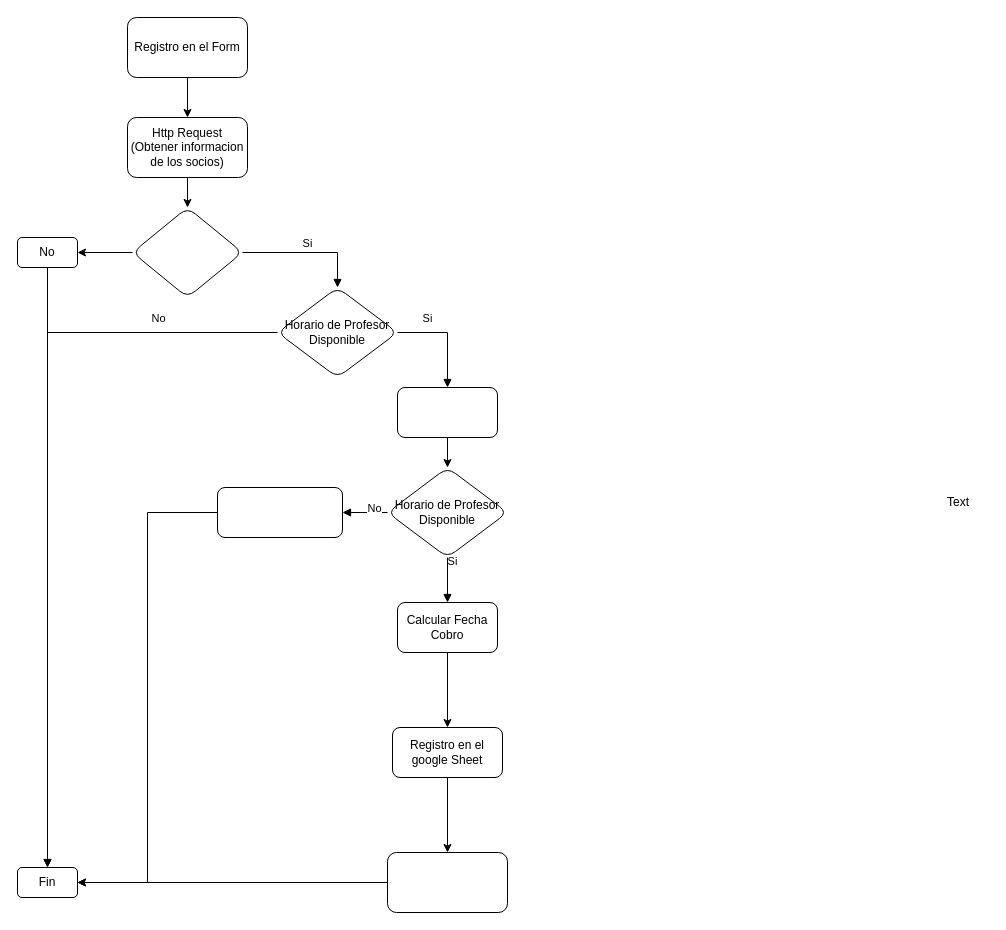
Some shapes in this 1006 by 930 pixel diagram are drawn without their labels. Here are the shapes that lost their labels. From the top down, the centre of each, then its label:
point 187,252: ¿Usuario Activo?
point 447,412: Cruce de reservas
point 279,512: Horario no disponible: Notificación
point 447,882: Actualizar Tabla Registros
